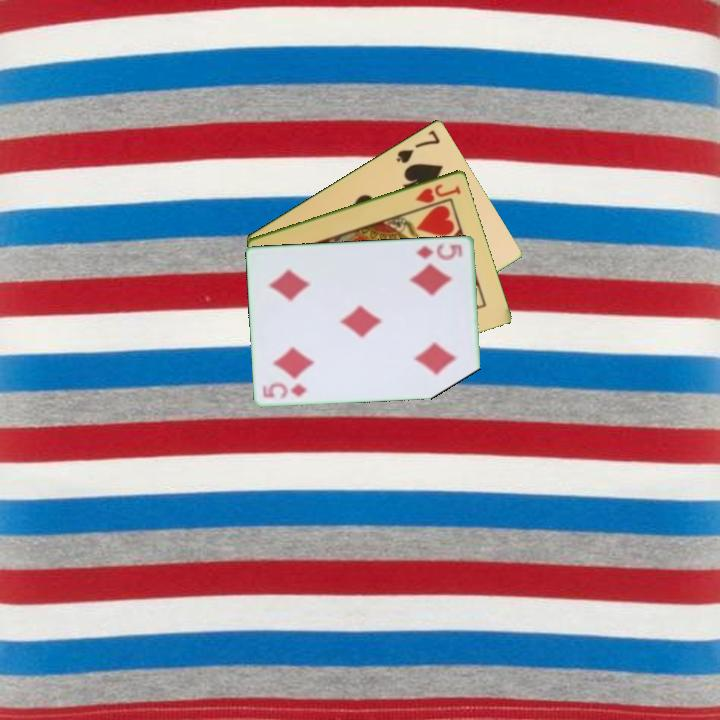5d: (412, 240, 465, 262), (259, 379, 310, 401)
7s: (393, 126, 443, 166)
Jh: (412, 180, 464, 206)
